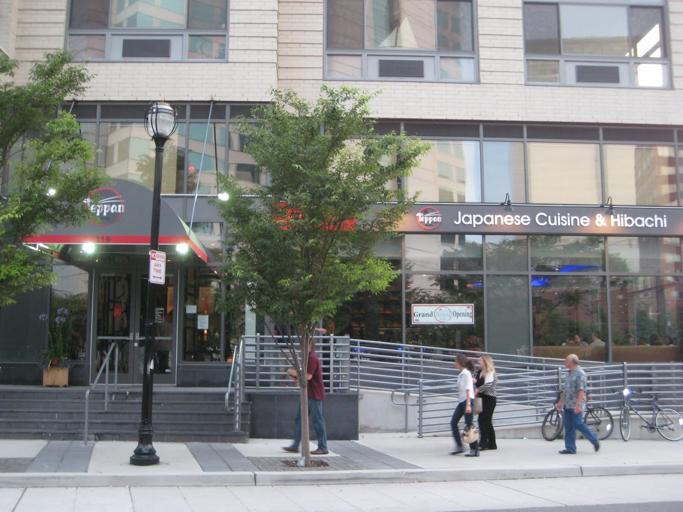non-vehicle: (538, 386, 616, 440), (610, 383, 681, 442)
